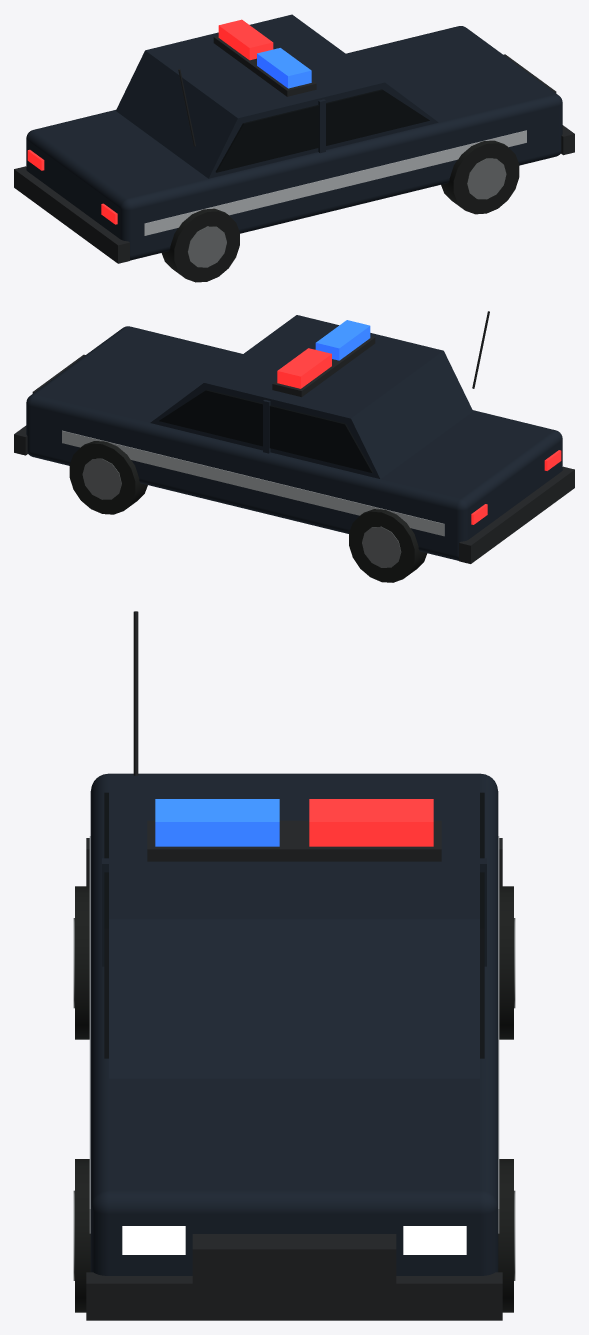
Rendered from police-car.glb.
The picture shows the model from 3 angles, top to bottom: view 1: azimuth 30°, elevation 25°; view 2: azimuth 150°, elevation 25°; view 3: azimuth 270°, elevation 25°; orthographic projection. The views are drawn at different scales.
Visible parts, largest first — view 1: policeNavy, darkGlass, rubberMat, iron, policeWhite, tin, lightBlue, lightRed, lightRedM; view 2: policeNavy, darkGlass, rubberMat, iron, policeWhite, tin, lightRed, lightBlue, lightRedM; view 3: policeNavy, iron, rubberMat, lightRed, lightBlue, headlights, darkGlass, policeWhite.
Boxes of the visible parts, left/top/right/bottom form: policeNavy: left=26, top=14, right=562, bottom=260; darkGlass: left=215, top=89, right=429, bottom=172; rubberMat: left=161, top=140, right=519, bottom=282; iron: left=14, top=35, right=574, bottom=263; policeWhite: left=144, top=130, right=526, bottom=235; tin: left=187, top=158, right=506, bottom=267; lightBlue: left=257, top=48, right=311, bottom=88; lightRed: left=218, top=19, right=273, bottom=60; lightRedM: left=27, top=149, right=117, bottom=224; policeNavy: left=26, top=315, right=562, bottom=560; darkGlass: left=159, top=389, right=373, bottom=472; rubberMat: left=69, top=441, right=427, bottom=582; iron: left=14, top=311, right=574, bottom=563; policeWhite: left=62, top=430, right=444, bottom=536; tin: left=82, top=458, right=401, bottom=567; lightRed: left=277, top=348, right=331, bottom=388; lightBlue: left=315, top=320, right=370, bottom=360; lightRedM: left=471, top=450, right=561, bottom=524; policeNavy: left=90, top=773, right=498, bottom=1275; iron: left=86, top=611, right=502, bottom=1320; rubberMat: left=75, top=886, right=513, bottom=1312; lightRed: left=309, top=799, right=433, bottom=846; lightBlue: left=155, top=799, right=279, bottom=846; headlights: left=122, top=1226, right=466, bottom=1254; darkGlass: left=104, top=792, right=484, bottom=1058; policeWhite: left=89, top=836, right=499, bottom=1233.
Size of the model in its own units: 4.74 by 1.99 by 1.95.
